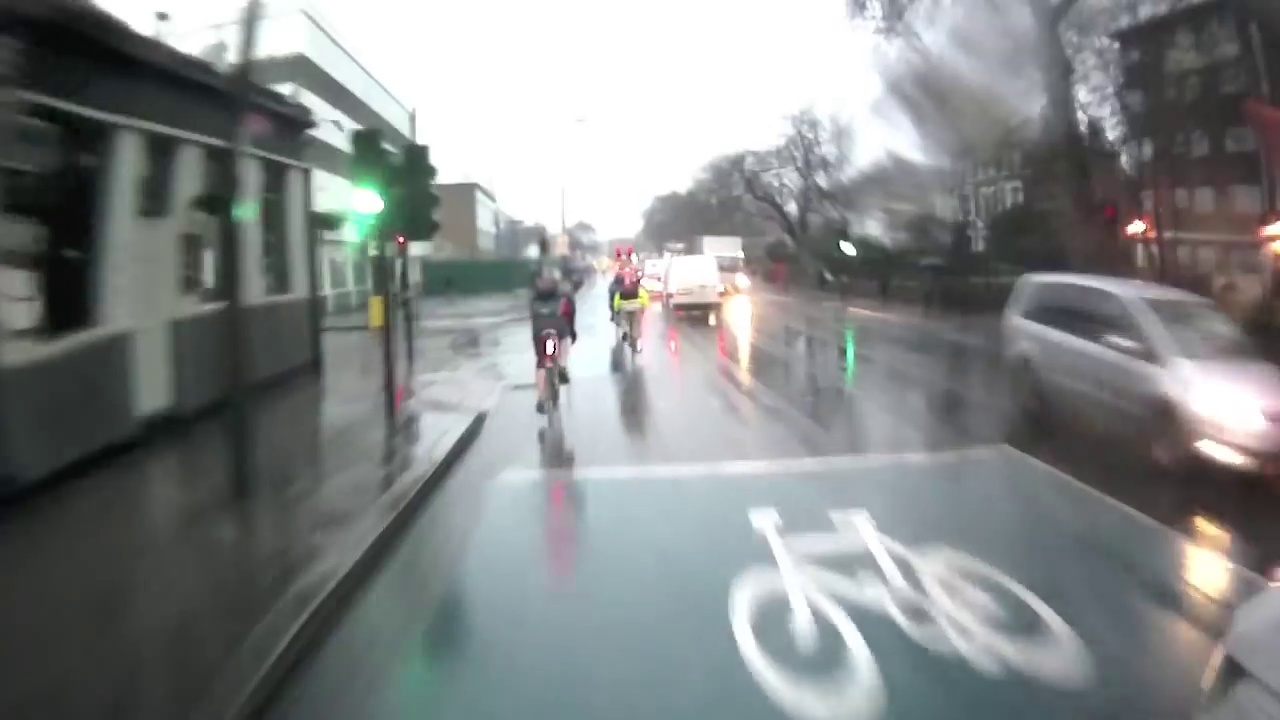cyclist_back: (529, 255, 580, 441), (607, 264, 651, 378)
